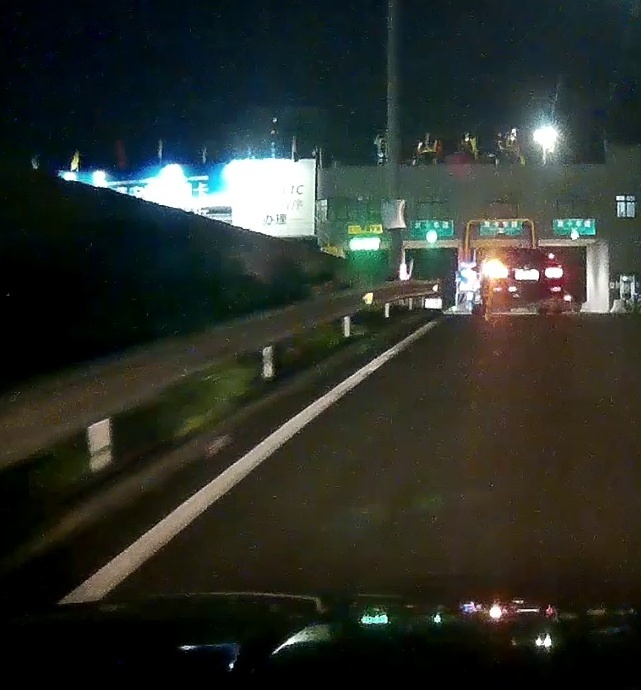L_light: (486, 261, 508, 278)
R_light: (545, 261, 564, 279)
T_light: (516, 248, 530, 251)
night-left: (481, 247, 565, 316)
